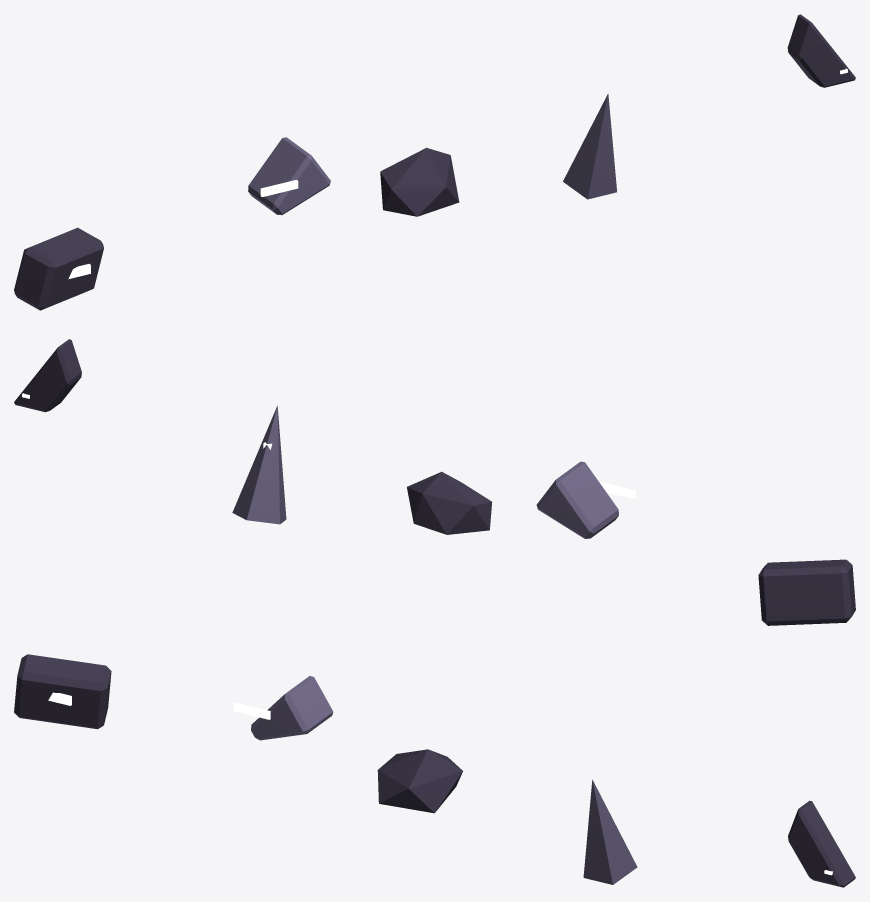
The model's file is portal_fragments.glb.
The picture shows the model from 3 angles, top to bottom: view 1: azimuth 30°, elevation 25°; view 2: azimuth 150°, elevation 25°; view 3: azimuth 330°, elevation 25°; orthographic projection.
Visible parts, largest first — view 1: frag0, frag2, frag1, frag3, frag4; view 2: frag0, frag1, frag2, frag3, frag4; view 3: frag0, frag2, frag1, frag4, frag3.
Part boxes in pixels (box(x1,y1,x2,y2)): frag0: box(14, 227, 103, 310); frag2: box(380, 147, 459, 216); frag1: box(248, 137, 330, 215); frag3: box(563, 93, 616, 199); frag4: box(787, 14, 855, 87); frag0: box(758, 559, 855, 625); frag1: box(536, 461, 636, 538); frag2: box(407, 471, 491, 534); frag3: box(232, 405, 286, 524); frag4: box(14, 339, 81, 412); frag0: box(14, 654, 111, 729); frag2: box(377, 749, 462, 813); frag1: box(233, 676, 333, 740); frag4: box(788, 800, 855, 887); frag3: box(583, 779, 637, 884).
Size of the model in its own units: 11.59 by 1.66 by 1.03.
